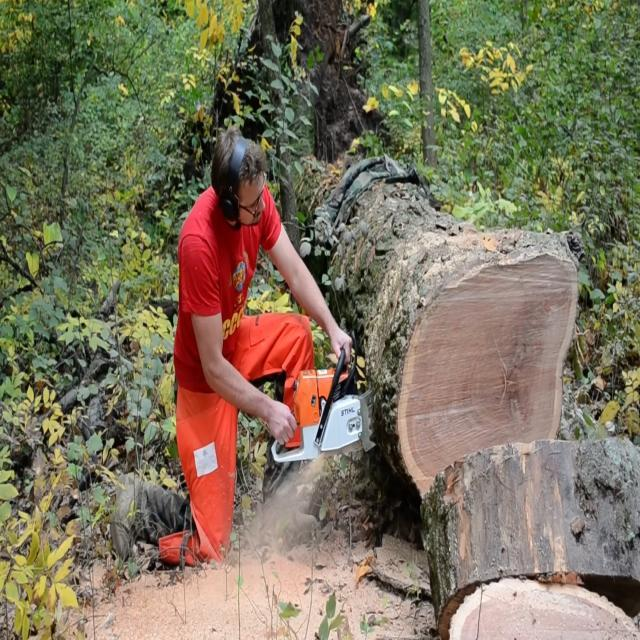Chainsaw: (256, 338, 394, 480)
